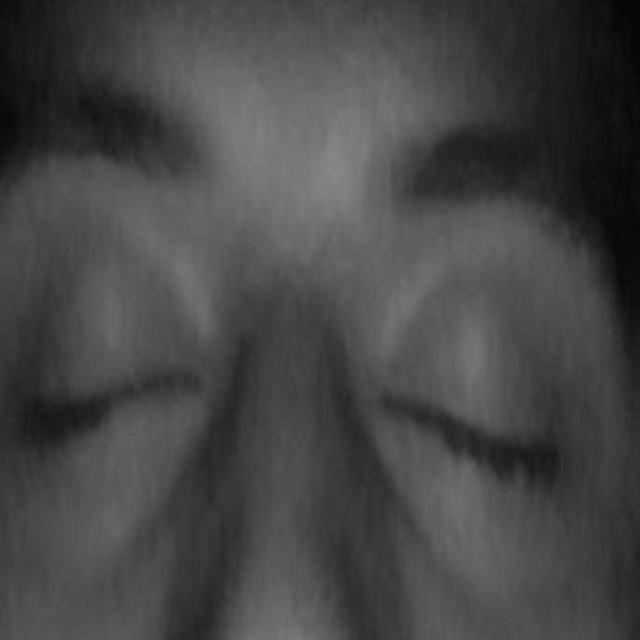real: (9, 233, 593, 537)
